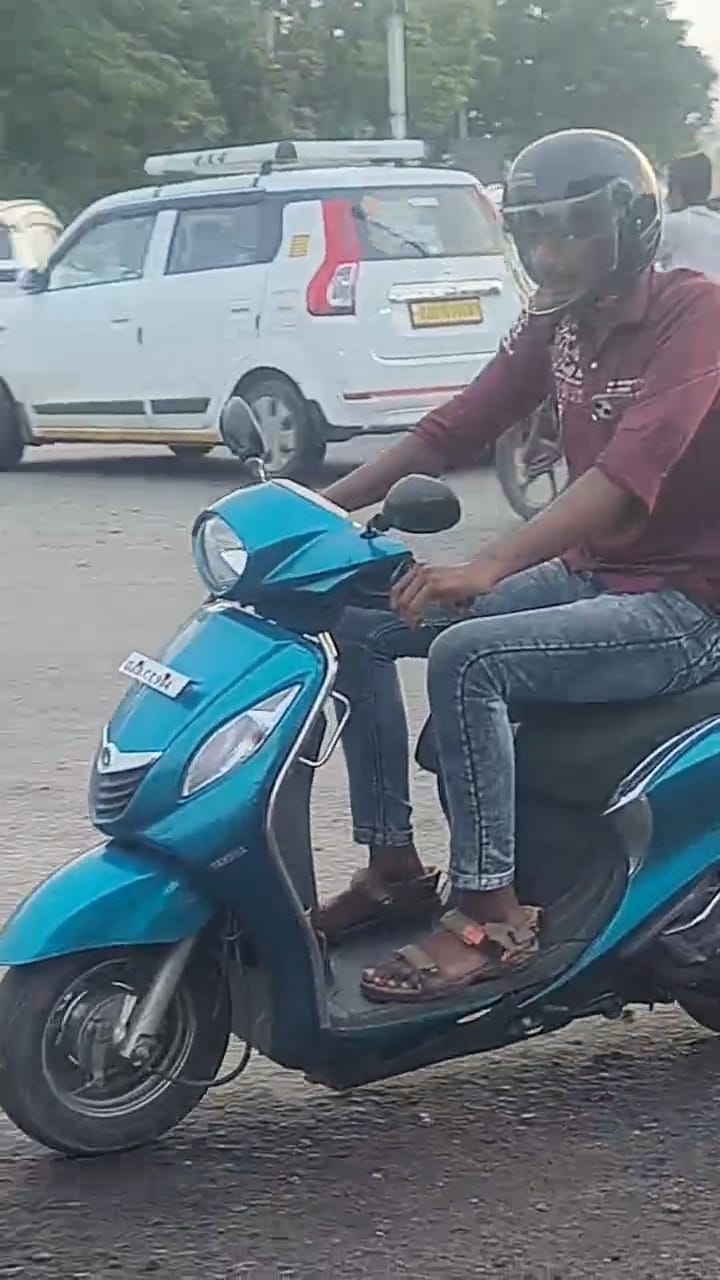BikeWithRider: (0, 103, 720, 1175)
Helmet: (493, 116, 675, 333)
